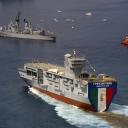Portanaves: (13, 47, 122, 119)
